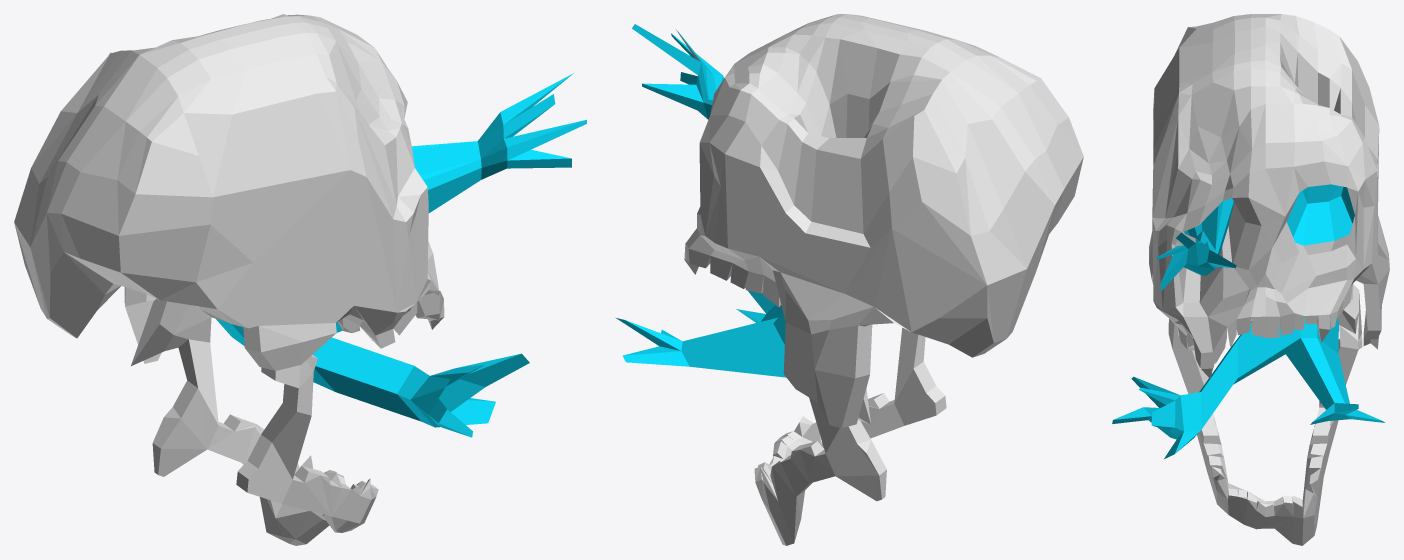
The model's file is Soul.fbx.
3 views of the same model, side by side, from view 1: azimuth 30°, elevation 25°; view 2: azimuth 150°, elevation 25°; view 3: azimuth 270°, elevation 25° (orthographic). The views are drawn at different scales.
Visible parts, largest first — view 1: DroopMany; view 2: DroopMany; view 3: DroopMany.
Part boxes in pixels (bbox=[...]): DroopMany: bbox=[14, 14, 586, 545]; DroopMany: bbox=[615, 14, 1083, 545]; DroopMany: bbox=[1112, 14, 1389, 545].
Size of the model in its own units: 870 by 940 by 500.
Materials: 1 (1 with a texture image).
